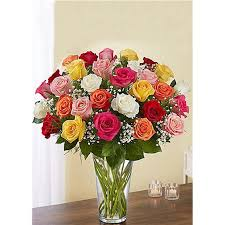lale: (91, 110, 126, 142), (59, 115, 90, 149), (111, 90, 142, 119), (67, 96, 97, 122), (130, 116, 155, 144), (110, 65, 136, 91), (29, 79, 57, 103), (47, 78, 76, 101), (92, 57, 116, 84), (163, 112, 185, 141), (129, 80, 155, 104), (88, 89, 114, 112), (143, 101, 169, 124), (79, 74, 104, 96), (63, 60, 88, 82), (39, 115, 60, 140), (152, 80, 175, 102), (54, 96, 75, 120), (171, 93, 193, 114)
